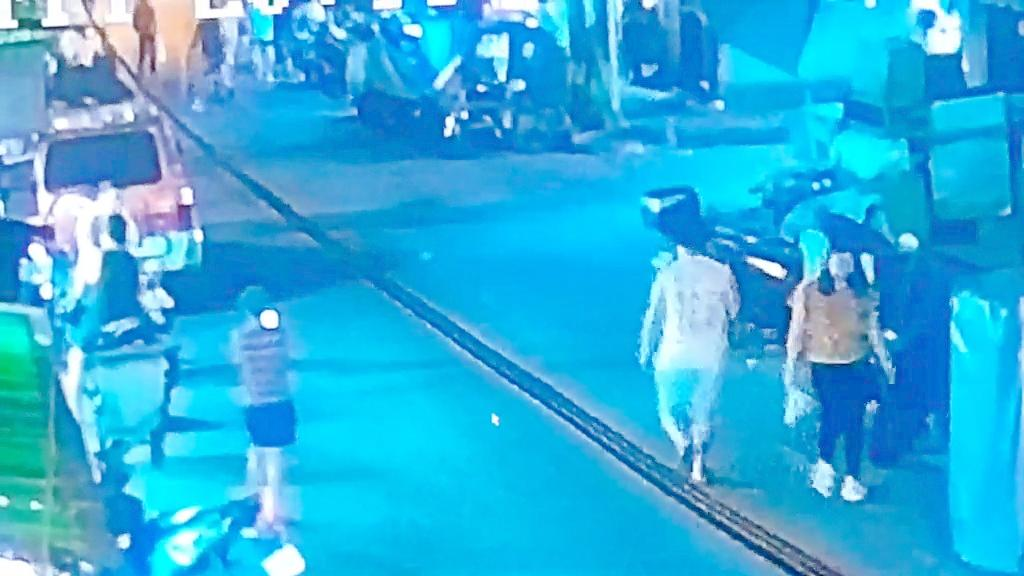Car: (29, 89, 214, 283)
Motor: (615, 161, 863, 354), (330, 0, 516, 197)
